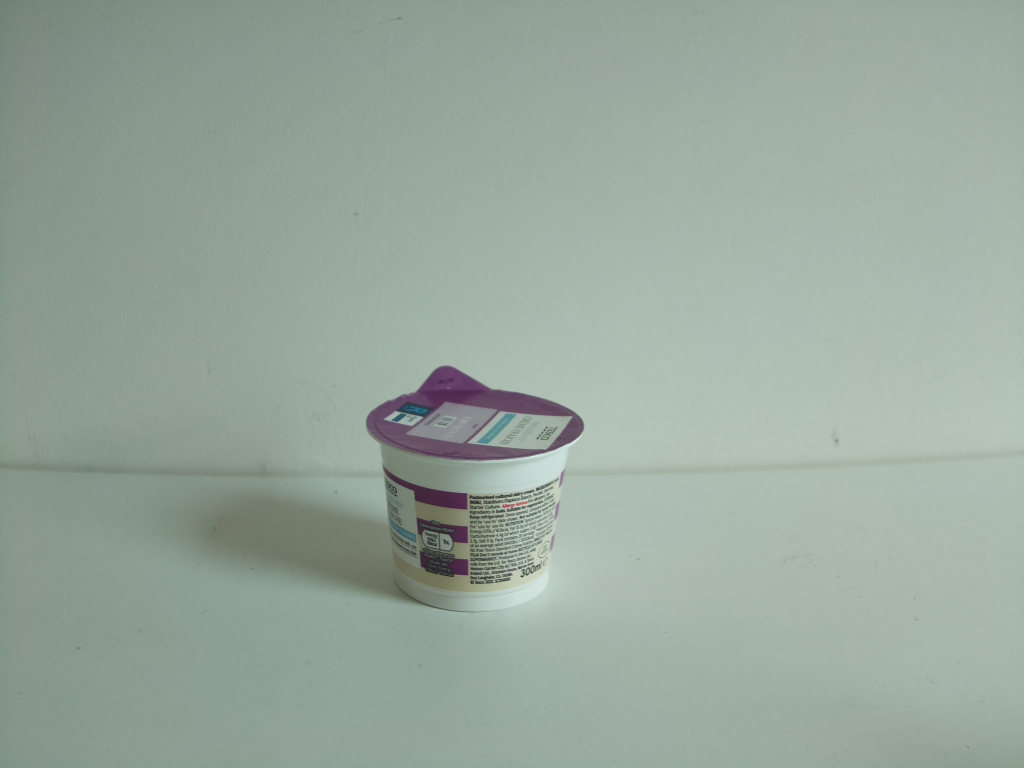cream: (361, 361, 589, 612)
